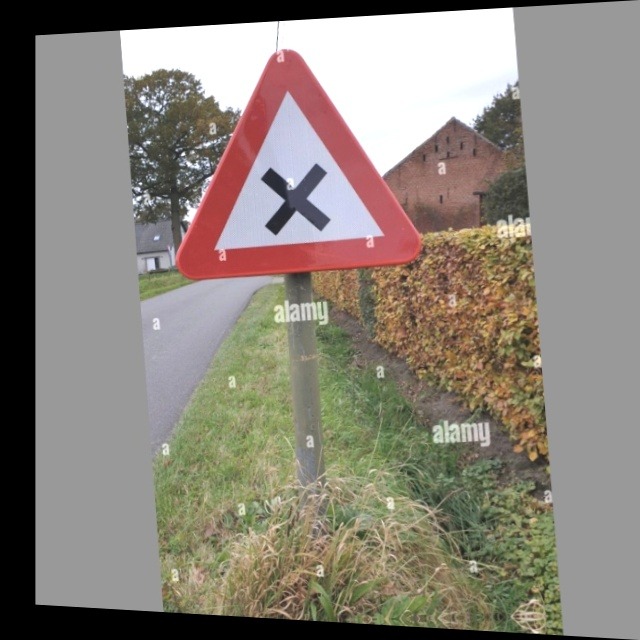Cross_Road: (170, 26, 413, 282)
